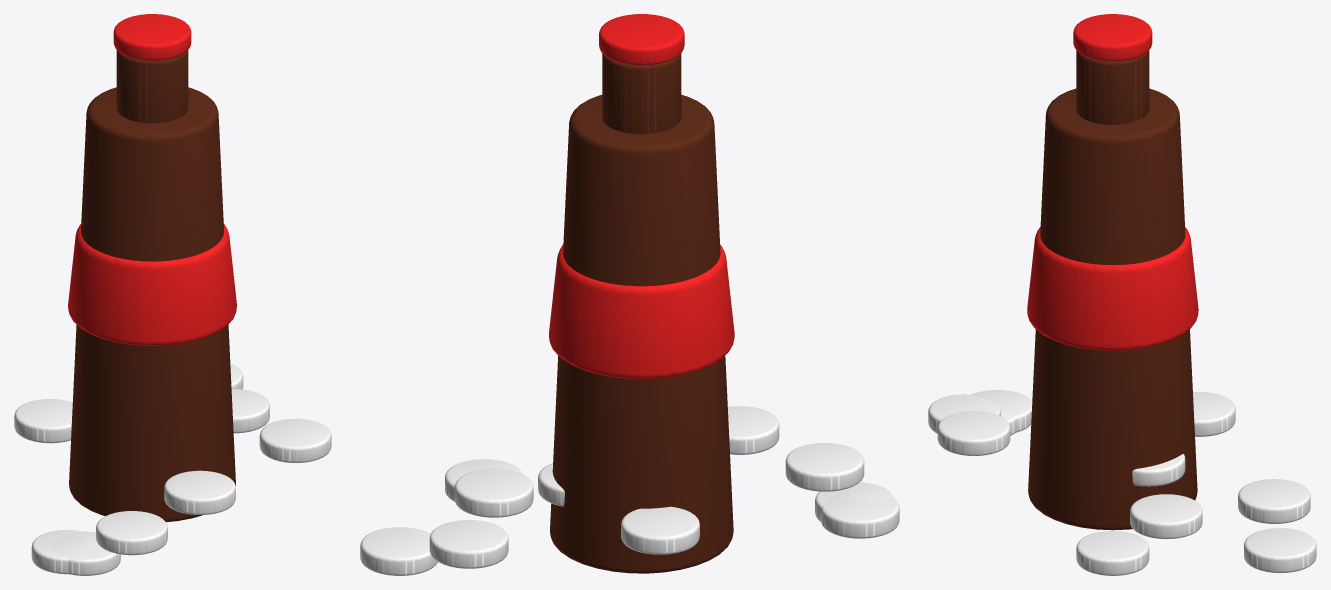
The model's file is Mentos.glb.
3 renders of one model, left to right at view 1: azimuth 30°, elevation 25°; view 2: azimuth 150°, elevation 25°; view 3: azimuth 270°, elevation 25°, orthographic. The views are drawn at different scales.
Visible parts, largest first — view 1: Cone, Cone.001, Cylinder, Cylinder.001, Cylinder.002, Cylinder.006, Cylinder.010, Cylinder.004, Cylinder.011, Cylinder.009, Cylinder.005; view 2: Cone, Cone.001, Cylinder, Cylinder.001, Cylinder.003, Cylinder.006, Cylinder.009, Cylinder.004, Cylinder.008, Cylinder.005, Cylinder.010, Cylinder.011 (+2 smaller); view 3: Cone, Cone.001, Cylinder, Cylinder.001, Cylinder.002, Cylinder.010, Cylinder.009, Cylinder.008, Cylinder.003, Cylinder.004, Cylinder.006, Cylinder.005 (+1 smaller).
Boxes of the visible parts, x1,y1,x2,y2 form: Cone: (69, 87, 235, 522); Cone.001: (68, 223, 236, 345); Cylinder: (116, 50, 188, 123); Cylinder.001: (113, 14, 191, 60); Cylinder.002: (259, 418, 331, 462); Cylinder.006: (96, 511, 167, 555); Cylinder.010: (164, 470, 235, 514); Cylinder.004: (14, 399, 72, 443); Cylinder.011: (52, 531, 120, 575); Cylinder.009: (231, 389, 269, 433); Cylinder.005: (31, 530, 99, 574); Cone: (550, 94, 733, 573); Cone.001: (549, 244, 734, 378); Cylinder: (602, 53, 681, 134); Cylinder.001: (599, 14, 684, 65); Cylinder.003: (429, 520, 508, 568); Cylinder.006: (785, 443, 864, 491); Cylinder.009: (454, 469, 533, 517); Cylinder.004: (621, 506, 699, 554); Cylinder.008: (360, 527, 437, 575); Cylinder.005: (820, 490, 899, 538); Cylinder.010: (728, 406, 779, 454); Cylinder.011: (815, 482, 893, 521); Cone: (1028, 88, 1197, 530); Cone.001: (1027, 227, 1198, 350); Cylinder: (1076, 50, 1149, 124); Cylinder.001: (1073, 14, 1152, 61); Cylinder.002: (1076, 531, 1149, 575); Cylinder.010: (937, 411, 1010, 455); Cylinder.009: (1130, 494, 1202, 539); Cylinder.008: (1244, 528, 1316, 573); Cylinder.003: (1238, 479, 1310, 523); Cylinder.004: (1193, 392, 1235, 436); Cylinder.006: (928, 394, 1000, 433); Cylinder.005: (972, 390, 1032, 432).
Size of the model in its own units: 1.33 by 1.69 by 1.27.
